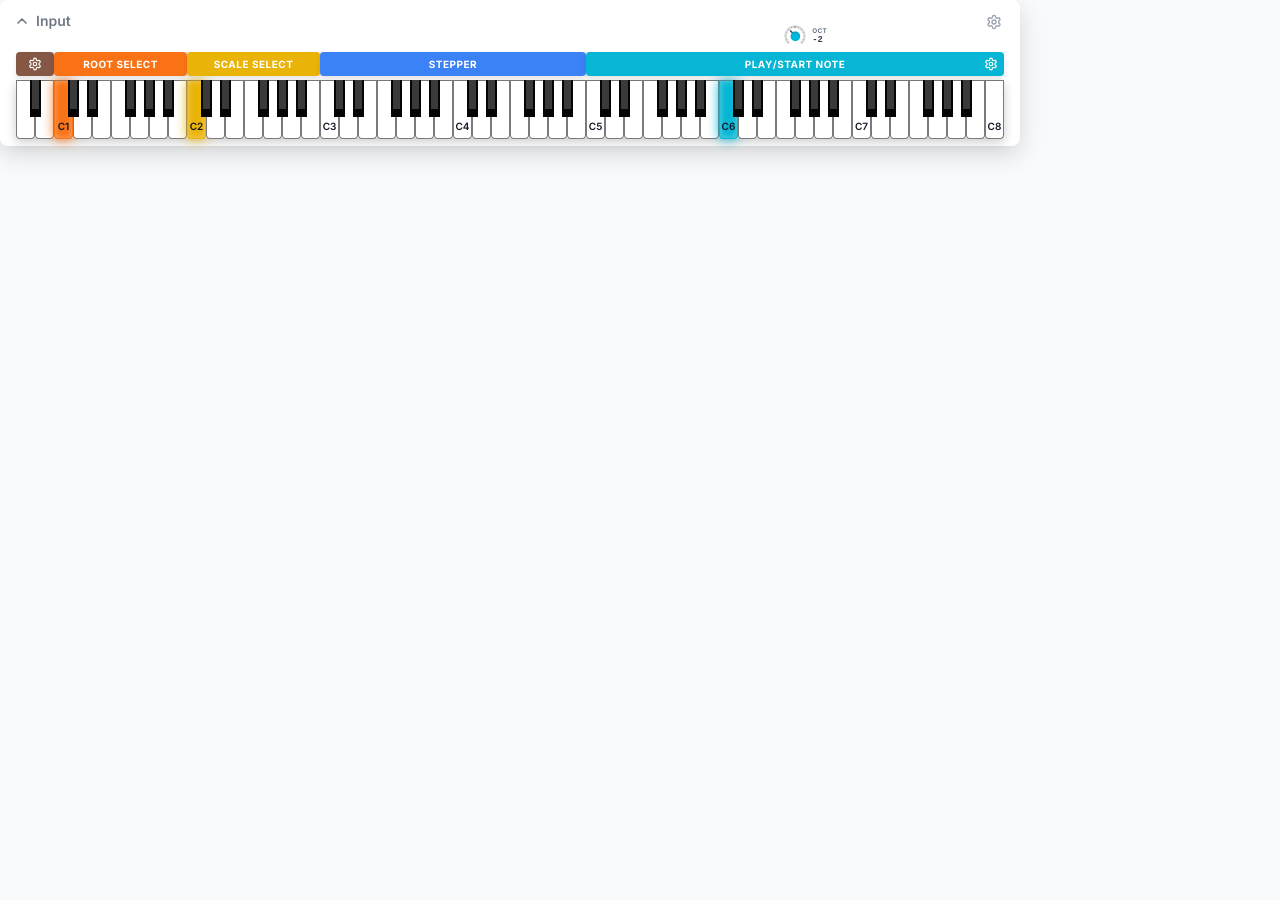
Test: InputSettingsModal Integration › Phase 4 - Test Case 1: Assert clicking the cog opens the modal
The image size is (1280, 900).
Click the button with id "toggle-input-settings" at {"x": 994, "y": 22}, box [982, 10, 1006, 34]
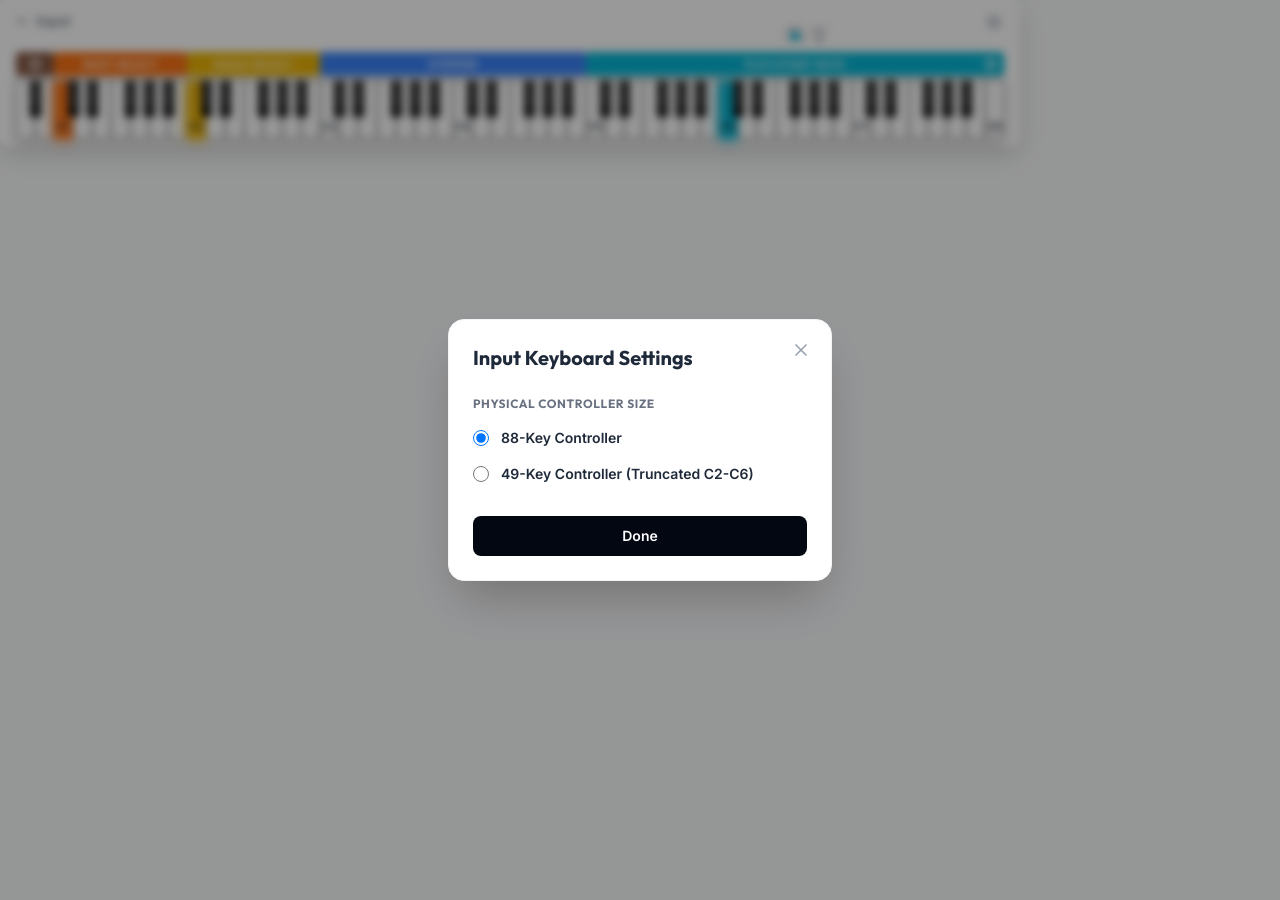
Result: the element with id "input-settings-modal" is shown
